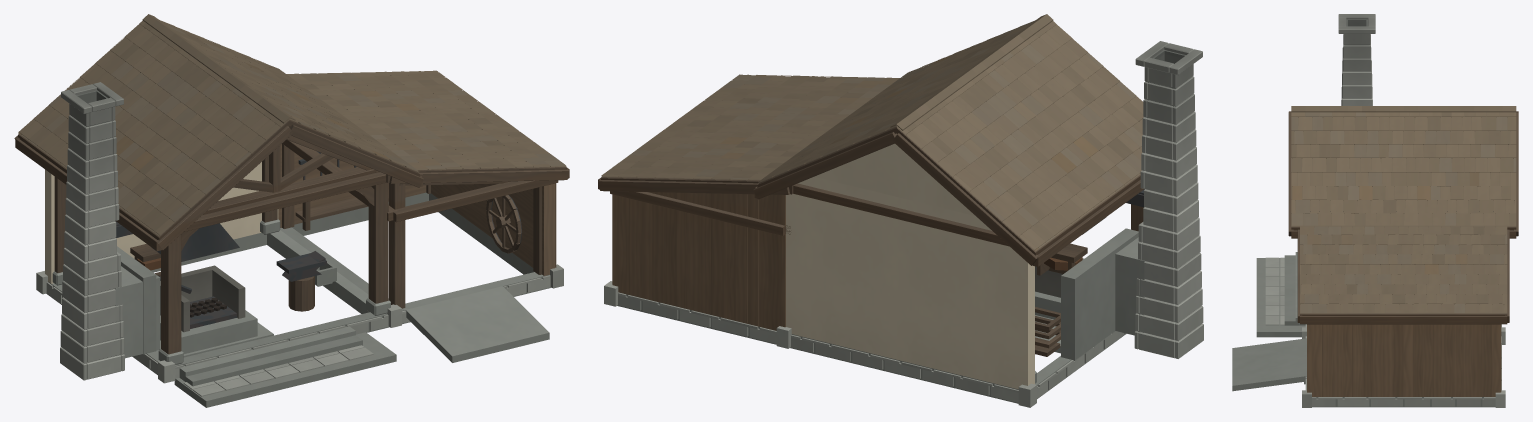
Rendered from smithy.glb.
The picture shows the model from 3 angles, left to right: view 1: azimuth 30°, elevation 25°; view 2: azimuth 150°, elevation 25°; view 3: azimuth 270°, elevation 25°; orthographic projection. The views are drawn at different scales.
Visible parts, largest first — view 1: world_lowmark.forge_hall.Split oak shingle courses, world_lowmark.forge_hall.smithy.stack_courses, world_lowmark.smithy_stock_range.Split oak shingle courses, world_lowmark.forge_hall.smithy.primary_end_bent, world_lowmark.forge_hall.smithy.material_ramp, world_lowmark.forge_hall.Seasoned shingle cohorts, world_lowmark.smithy_stock_range.facade_walls, world_lowmark.forge_hall.Exposed shingle butts, world_lowmark.forge_hall.Roof edge fascia, world_lowmark.smithy_stock_range.facade_foundation_core, world_lowmark.forge_hall.facade_foundation_core, world_lowmark.forge_hall.smithy.workfront_threshold (+28 smaller); view 2: world_lowmark.forge_hall.facade_walls, world_lowmark.forge_hall.Split oak shingle courses, world_lowmark.smithy_stock_range.facade_board_skin, world_lowmark.forge_hall.smithy.stack_courses, world_lowmark.smithy_stock_range.Split oak shingle courses, world_lowmark.forge_hall.Seasoned shingle cohorts, world_lowmark.forge_hall.smithy.fire_screen, world_lowmark.forge_hall.Exposed shingle butts, world_lowmark.forge_hall.Roof edge fascia, world_lowmark.forge_hall.facade_stone, world_lowmark.smithy_stock_range.Exposed shingle butts, world_lowmark.smithy_stock_range.Seasoned shingle cohorts (+15 smaller); view 3: world_lowmark.forge_hall.Split oak shingle courses, world_lowmark.smithy_stock_range.facade_board_skin, world_lowmark.smithy_stock_range.Split oak shingle courses, world_lowmark.forge_hall.Exposed shingle butts, world_lowmark.forge_hall.Seasoned shingle cohorts, world_lowmark.forge_hall.smithy.material_ramp, world_lowmark.smithy_stock_range.Exposed shingle butts, world_lowmark.forge_hall.smithy.stack_courses, world_lowmark.smithy_stock_range.Seasoned shingle cohorts, world_lowmark.smithy_stock_range.Roof edge fascia, world_lowmark.forge_hall.Concealed roof course bedding, world_lowmark.smithy_stock_range.facade_stone (+9 smaller).
Boxes of the visible parts, <box> form: world_lowmark.forge_hall.Split oak shingle courses: <box>19,20,406,235</box>; world_lowmark.forge_hall.smithy.stack_courses: <box>60,82,124,380</box>; world_lowmark.smithy_stock_range.Split oak shingle courses: <box>286,70,559,169</box>; world_lowmark.forge_hall.smithy.primary_end_bent: <box>54,135,388,354</box>; world_lowmark.forge_hall.smithy.material_ramp: <box>405,286,549,362</box>; world_lowmark.forge_hall.Seasoned shingle cohorts: <box>18,23,391,235</box>; world_lowmark.smithy_stock_range.facade_walls: <box>278,144,555,275</box>; world_lowmark.forge_hall.Exposed shingle butts: <box>21,24,418,221</box>; world_lowmark.forge_hall.Roof edge fascia: <box>14,124,423,251</box>; world_lowmark.smithy_stock_range.facade_foundation_core: <box>280,192,551,324</box>; world_lowmark.forge_hall.facade_foundation_core: <box>46,230,389,374</box>; world_lowmark.forge_hall.smithy.workfront_threshold: <box>179,326,362,386</box>; world_lowmark.forge_hall.facade_walls: <box>786,143,1034,389</box>; world_lowmark.forge_hall.Split oak shingle courses: <box>763,20,1143,250</box>; world_lowmark.smithy_stock_range.facade_board_skin: <box>612,192,785,330</box>; world_lowmark.forge_hall.smithy.stack_courses: <box>1134,41,1203,358</box>; world_lowmark.smithy_stock_range.Split oak shingle courses: <box>601,74,899,179</box>; world_lowmark.forge_hall.Seasoned shingle cohorts: <box>758,27,1143,250</box>; world_lowmark.forge_hall.smithy.fire_screen: <box>1061,228,1144,360</box>; world_lowmark.forge_hall.Exposed shingle butts: <box>798,21,1142,247</box>; world_lowmark.forge_hall.Roof edge fascia: <box>753,132,1144,266</box>; world_lowmark.forge_hall.facade_stone: <box>791,331,1125,402</box>; world_lowmark.smithy_stock_range.Exposed shingle butts: <box>629,74,890,179</box>; world_lowmark.smithy_stock_range.Seasoned shingle cohorts: <box>631,75,866,178</box>; world_lowmark.forge_hall.Split oak shingle courses: <box>1291,112,1516,225</box>; world_lowmark.smithy_stock_range.facade_board_skin: <box>1307,324,1501,396</box>; world_lowmark.smithy_stock_range.Split oak shingle courses: <box>1300,226,1507,312</box>; world_lowmark.forge_hall.Exposed shingle butts: <box>1291,112,1516,225</box>; world_lowmark.forge_hall.Seasoned shingle cohorts: <box>1291,112,1516,225</box>; world_lowmark.forge_hall.smithy.material_ramp: <box>1232,338,1306,391</box>; world_lowmark.smithy_stock_range.Exposed shingle butts: <box>1300,226,1507,312</box>; world_lowmark.forge_hall.smithy.stack_courses: <box>1338,14,1375,105</box>; world_lowmark.smithy_stock_range.Seasoned shingle cohorts: <box>1300,226,1507,312</box>; world_lowmark.smithy_stock_range.Roof edge fascia: <box>1297,229,1509,324</box>; world_lowmark.forge_hall.Concealed roof course bedding: <box>1291,112,1516,226</box>; world_lowmark.smithy_stock_range.facade_stone: <box>1305,336,1501,406</box>.
Size of the model in its own units: 11.41 by 6.59 by 7.68.
Materials: 14 (14 with a texture image).
